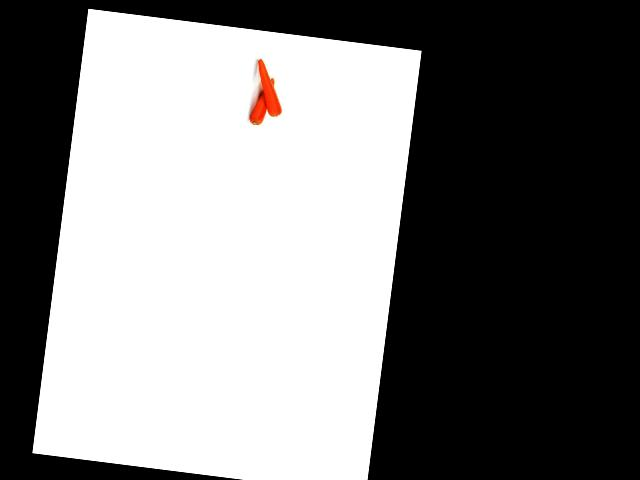carrot: (248, 72, 276, 131)
